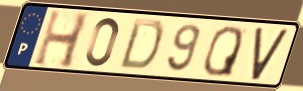0: (85, 16, 120, 68)
9: (166, 23, 201, 74)
D: (117, 17, 166, 72)
H: (31, 7, 92, 70)
Q: (202, 24, 245, 79)
V: (250, 27, 292, 82)
